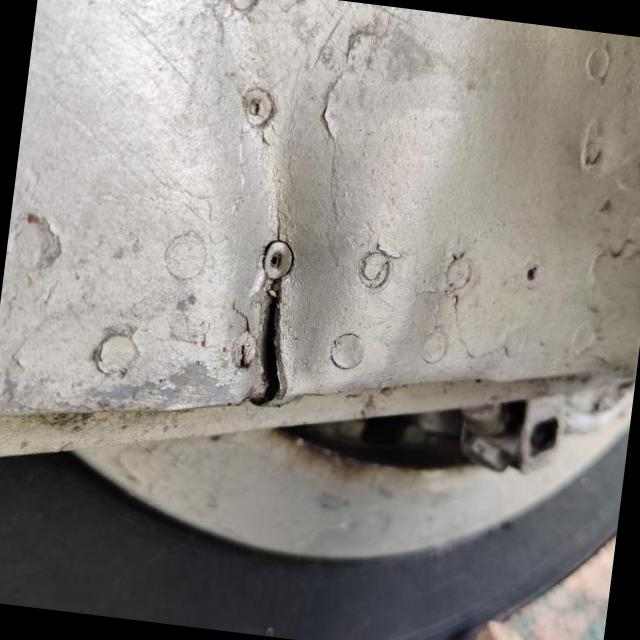Crack: (250, 279, 284, 404)
